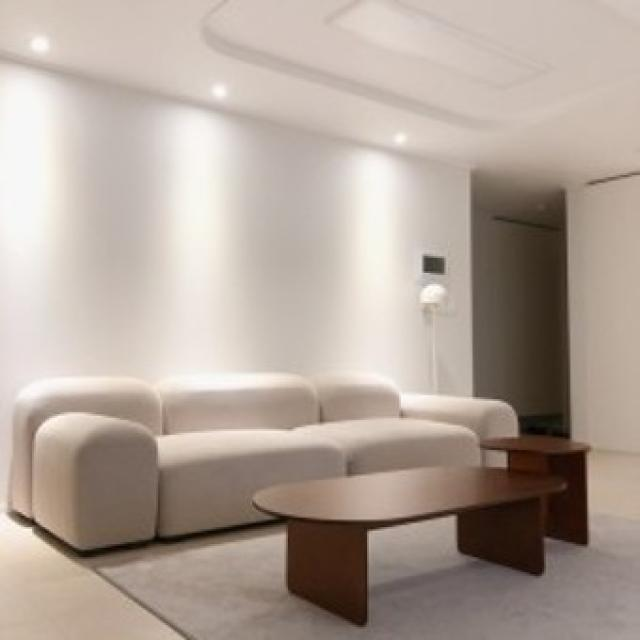Sofa: (14, 368, 509, 529)
Table: (258, 465, 562, 615)
